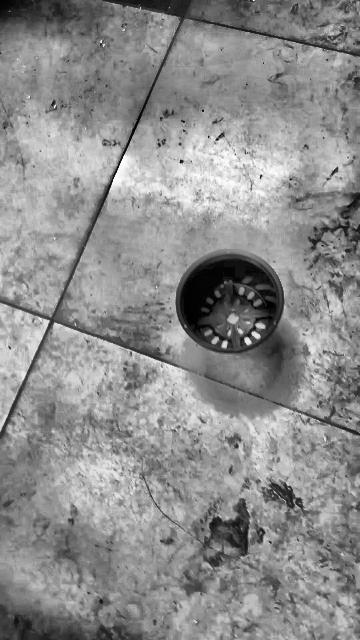pot: (175, 251, 283, 355)
